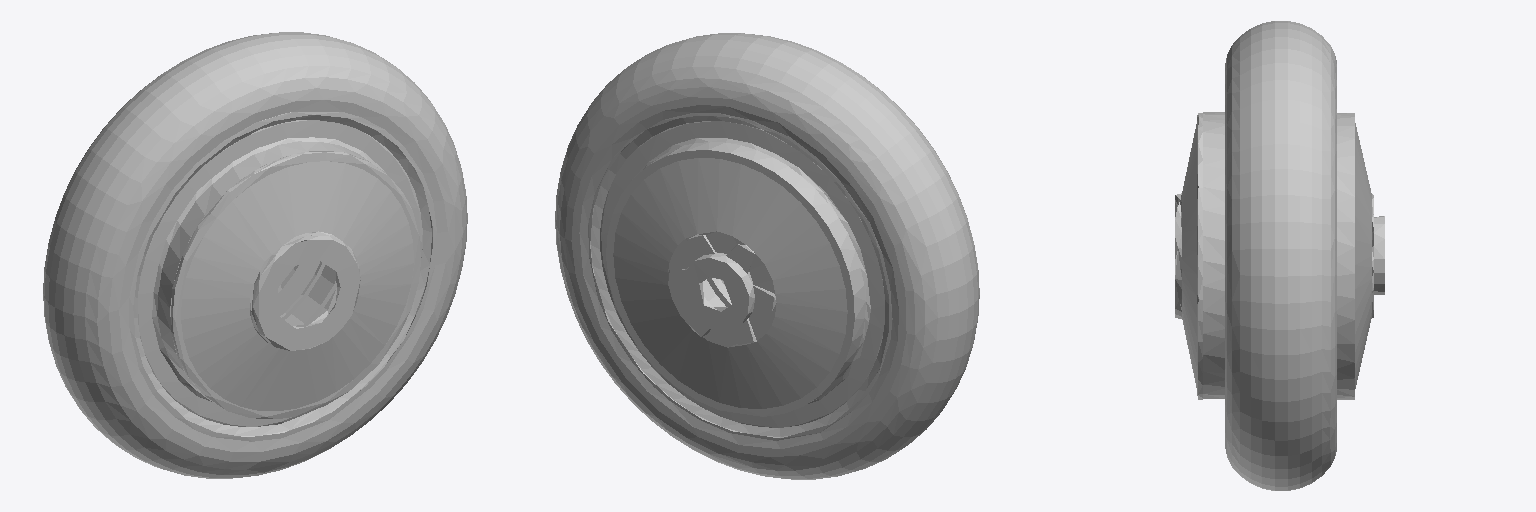
Rendered from wheel.obj.
The picture shows the model from 3 angles: view 1: azimuth 30°, elevation 25°; view 2: azimuth 150°, elevation 25°; view 3: azimuth 270°, elevation 25°; orthographic projection.
Parts seen in each view (by area): view 1: wheel; view 2: wheel; view 3: wheel.
Part boxes in pixels (x1,y1,x2,y2): wheel: (43, 32, 467, 478); wheel: (555, 33, 979, 479); wheel: (1175, 21, 1384, 490).
Bounding box in the file's own units: 0.1966 × 0.1963 × 0.0877.